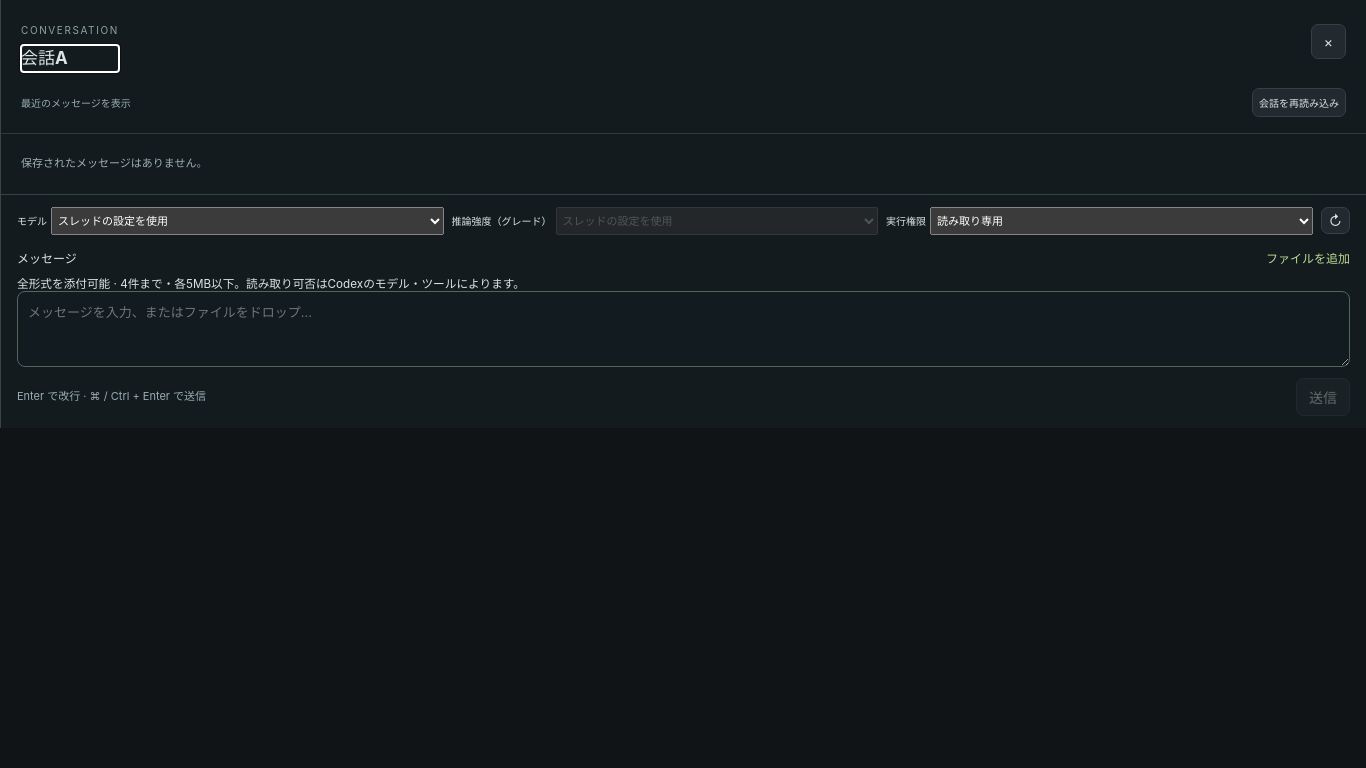
Test case: explains writer conflicts as unsent and preserves only the draft
Type "下書きを残す" into the text box labelled "メッセージ". click: (684, 329)
box: [17,291,1350,367]
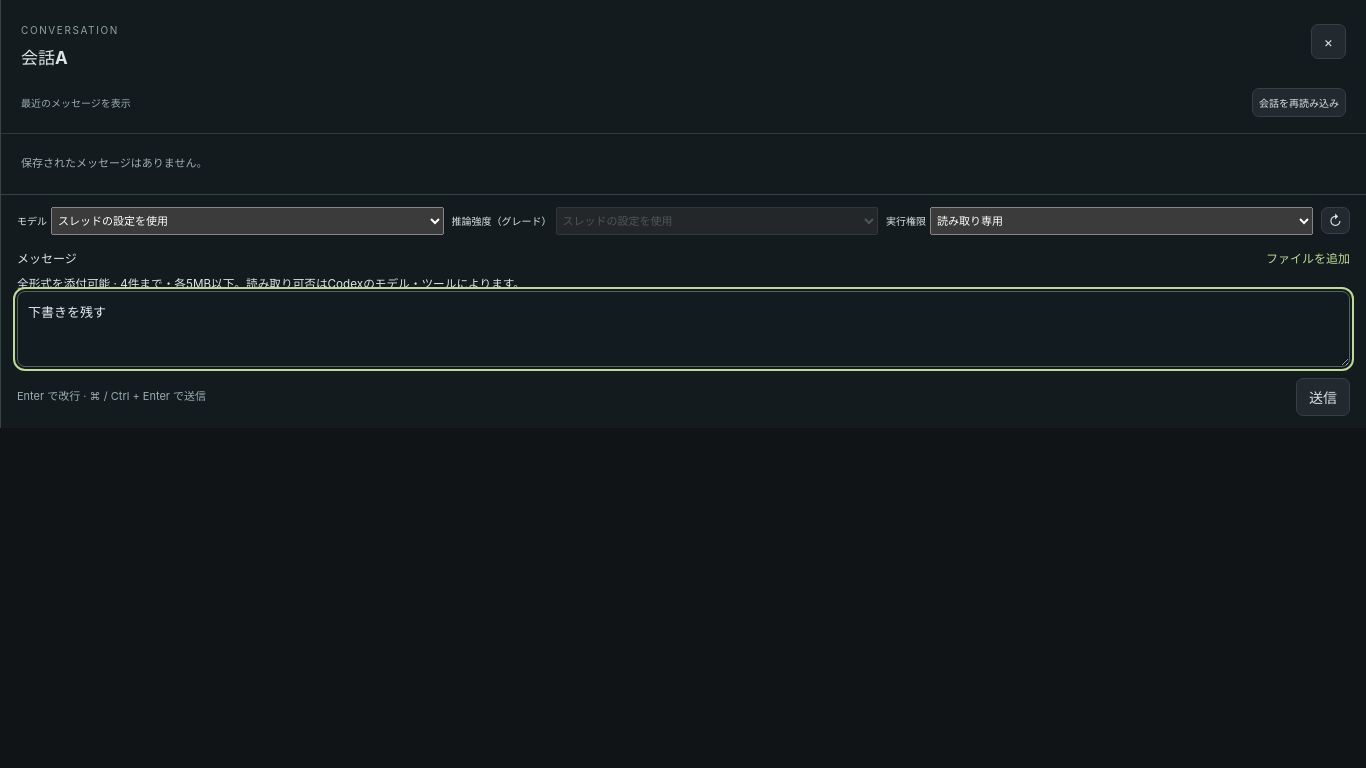
Click the button "送信". click: (1323, 397)
box: [1296,378,1350,416]
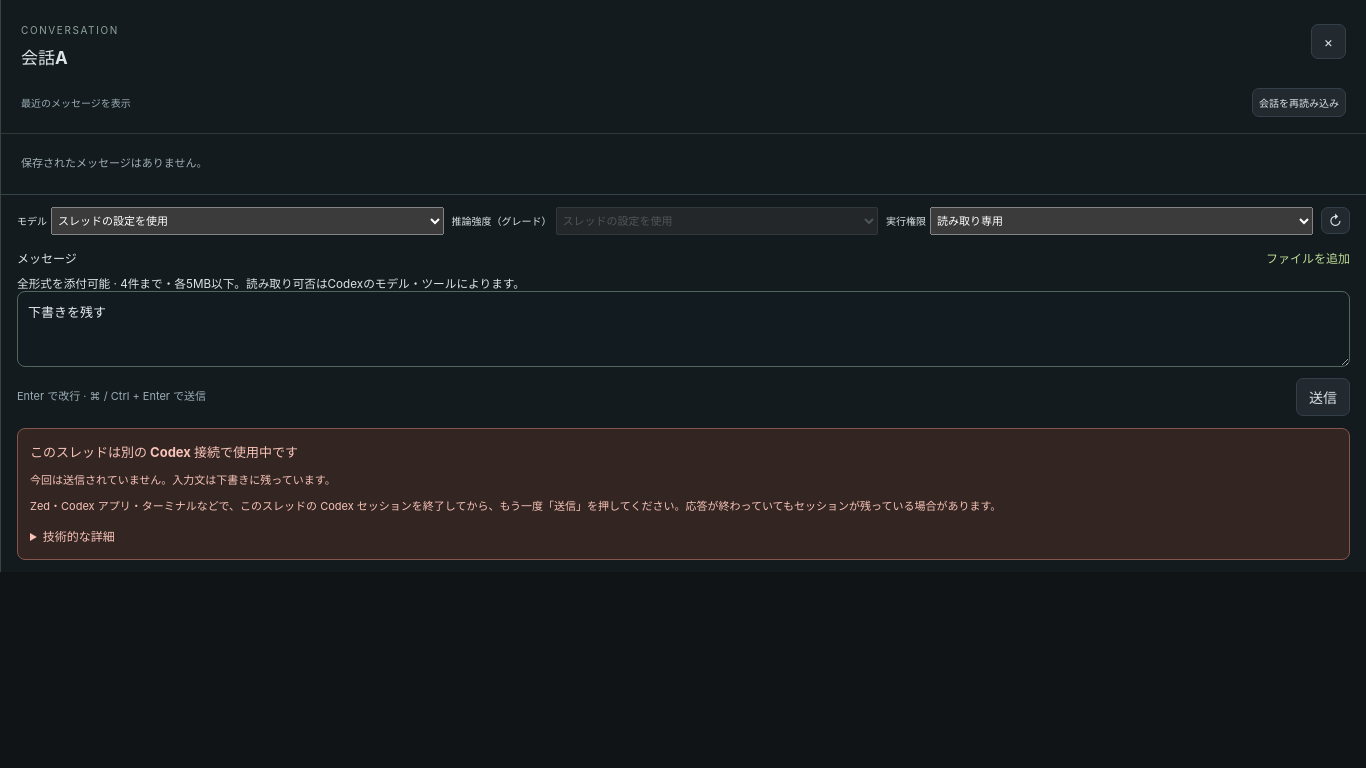
Check: the message shows "今回は送信されていません", box [30,473,336,487]
Check: the message shows "セッションを終了", box [30,499,1001,513]
